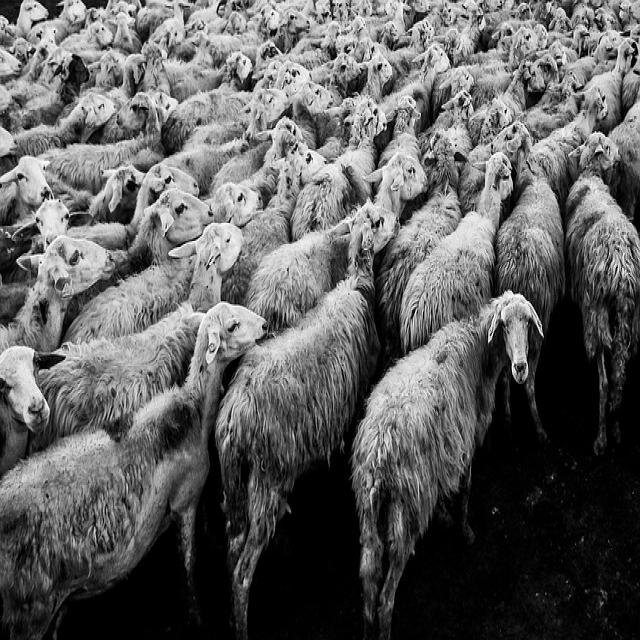goat: (0, 303, 264, 638), (216, 203, 380, 638), (352, 292, 542, 638), (29, 224, 241, 451), (565, 132, 640, 453), (400, 152, 512, 353), (0, 235, 115, 353), (495, 169, 565, 331), (0, 346, 63, 475), (131, 188, 212, 264), (366, 152, 428, 217), (0, 156, 52, 225), (525, 333, 545, 438)
